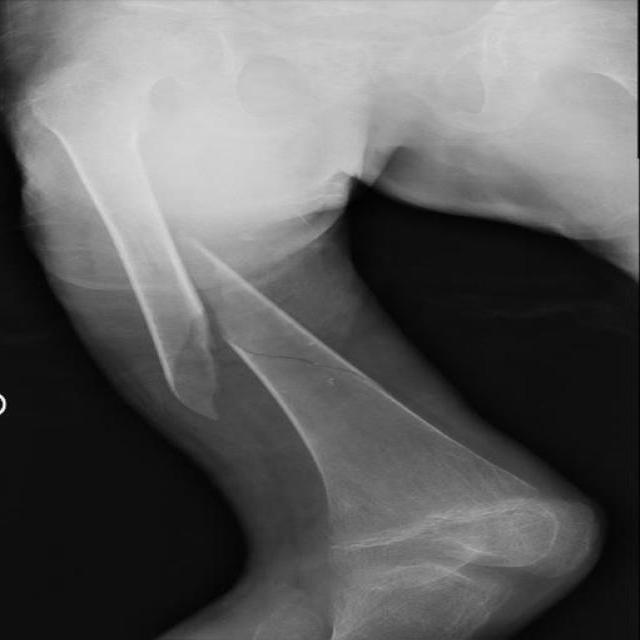Longitudinal: (133, 180, 300, 441)
